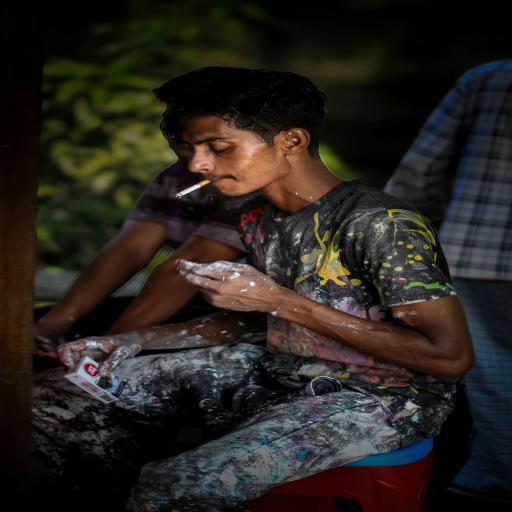merokok: (159, 118, 261, 205)
